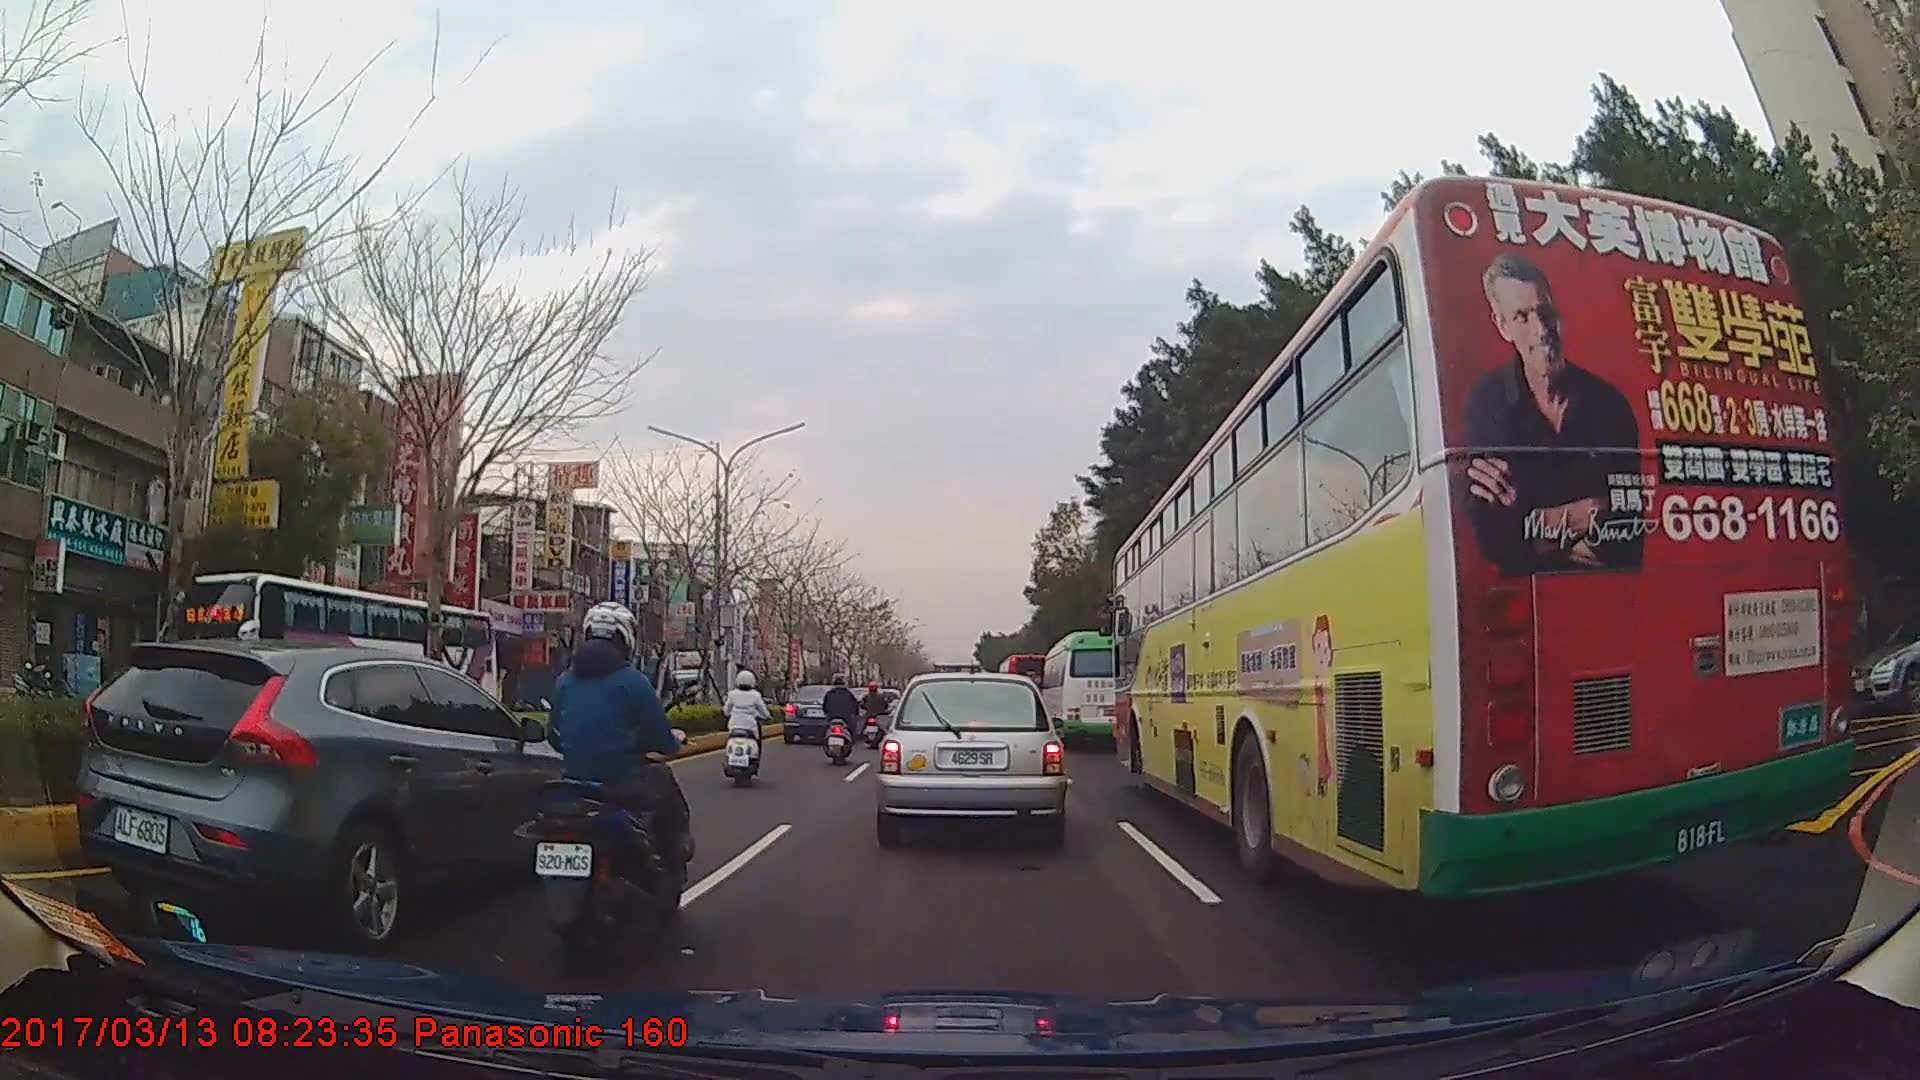rider: (534, 599, 688, 966), (722, 669, 775, 786), (824, 672, 863, 756), (860, 681, 890, 744)
vehicle: (1108, 171, 1855, 904), (74, 634, 603, 955), (182, 571, 499, 749), (876, 669, 1068, 843), (1041, 628, 1149, 750), (1844, 599, 1920, 714), (781, 682, 868, 744), (997, 650, 1056, 725)
